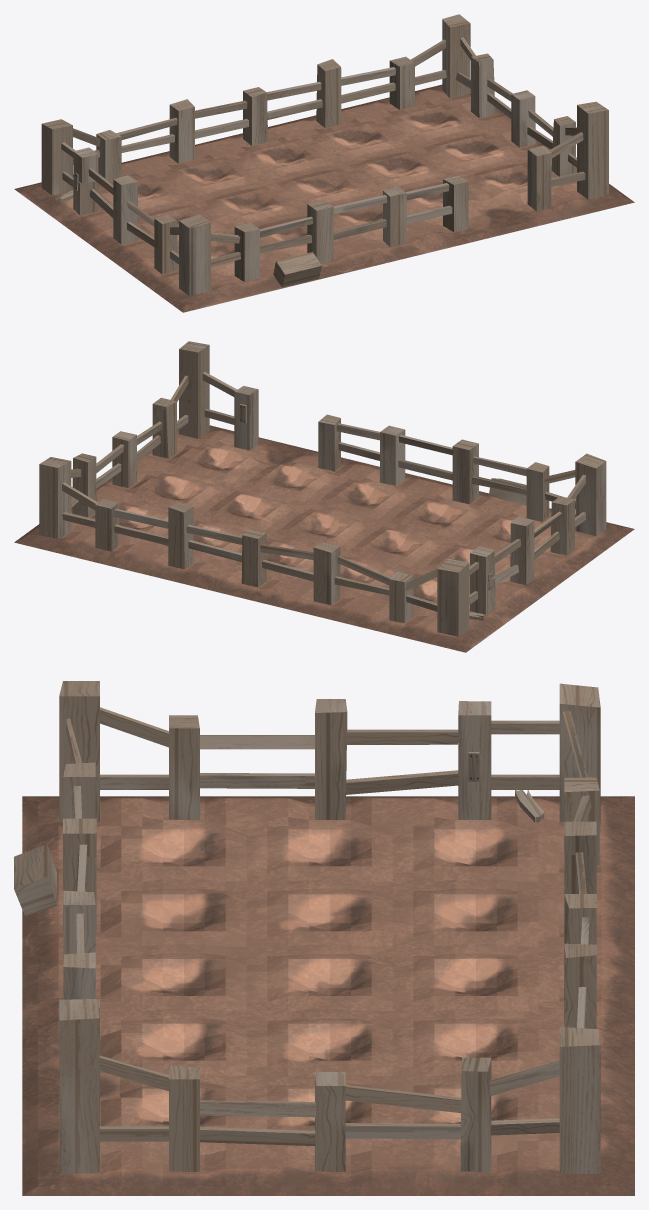
File: ogorodgood.fbx
The picture shows the model from 3 angles, top to bottom: view 1: azimuth 30°, elevation 25°; view 2: azimuth 150°, elevation 25°; view 3: azimuth 270°, elevation 25°; orthographic projection. The views are drawn at different scales.
Visible parts, largest first — view 1: ogorod, zabor; view 2: ogorod, zabor; view 3: ogorod, zabor.
Part boxes in pixels (x1,y1,x2,y2): ogorod: (14,84,634,312); zabor: (41,14,608,295); ogorod: (14,425,634,652); zabor: (39,341,606,636); ogorod: (22,796,634,1195); zabor: (14,681,600,1173).
Bounding box in the file's own units: 2030 × 390 × 1333.
